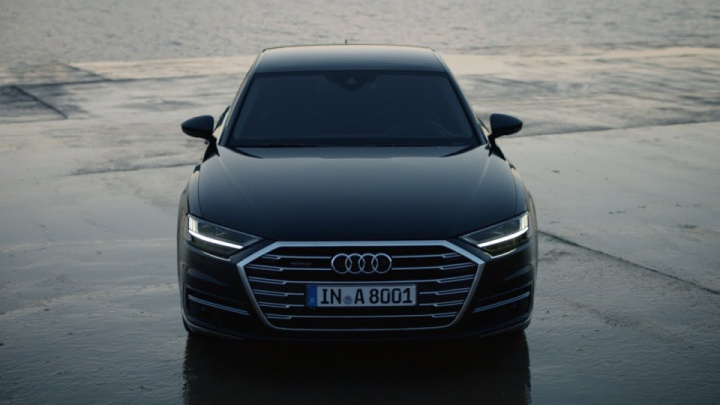audi: (325, 250, 401, 278)
